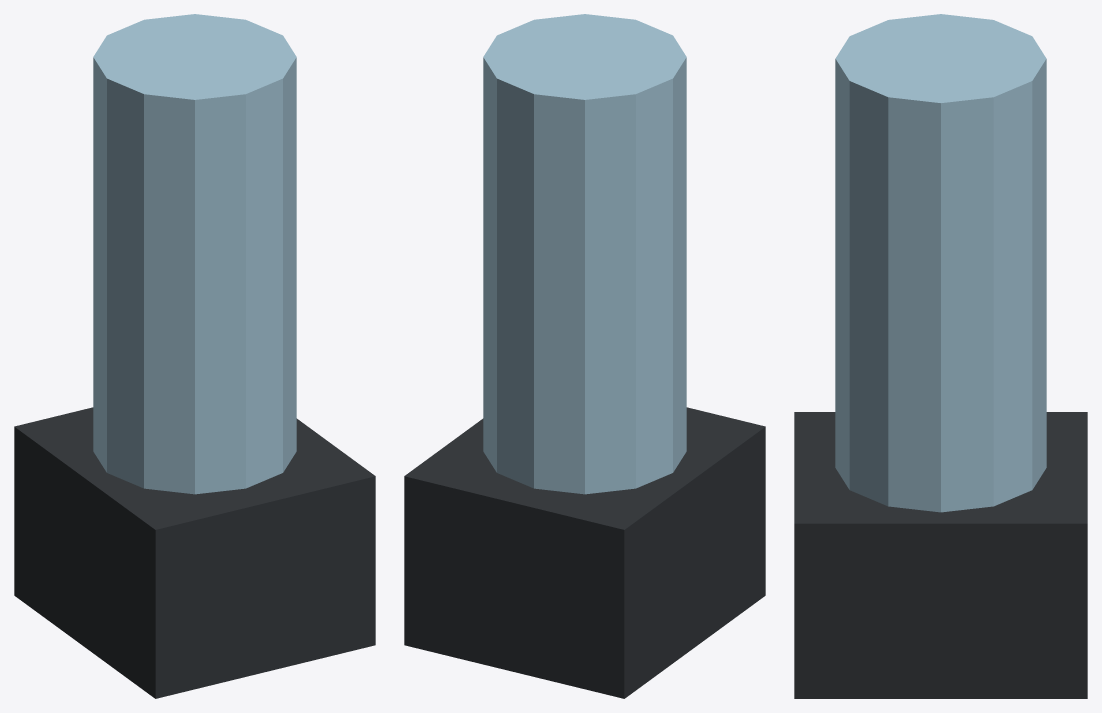
Rendered from blender_commercial_64oz.glb.
The picture shows the model from 3 angles, left to right: view 1: azimuth 30°, elevation 25°; view 2: azimuth 150°, elevation 25°; view 3: azimuth 270°, elevation 25°; orthographic projection. The views are drawn at different scales.
Size of the model in its own units: 0.2286 by 0.5588 by 0.254.
